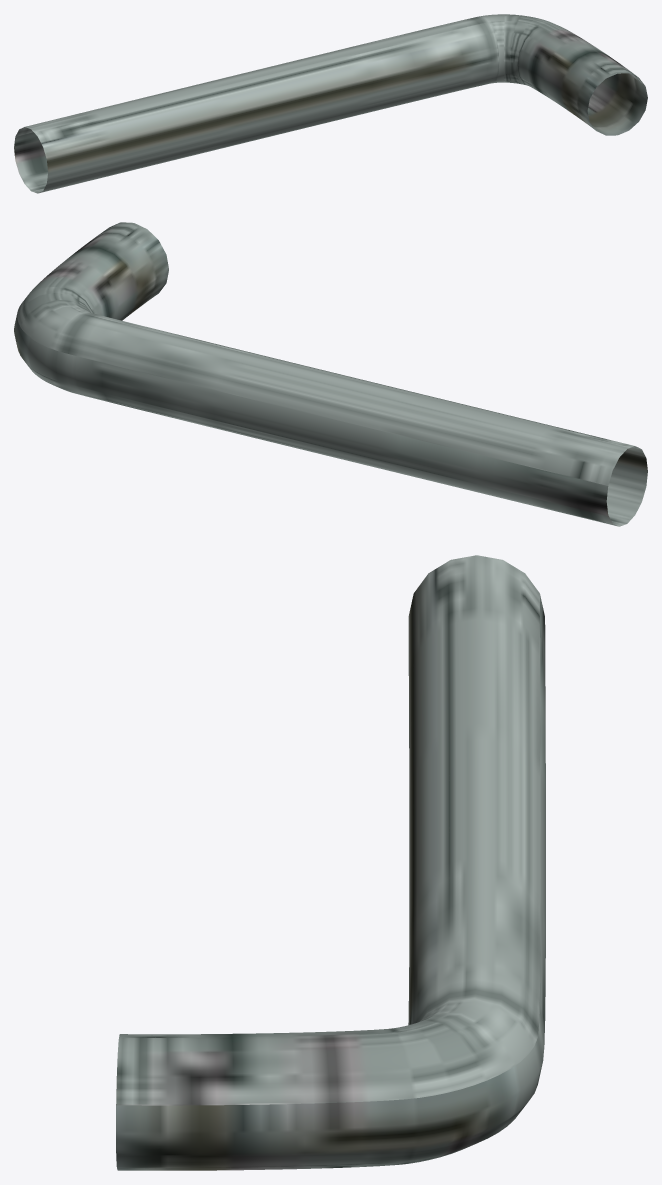
Rendered from mapa.fbx.
3 renders of one model, top to bottom at view 1: azimuth 30°, elevation 25°; view 2: azimuth 150°, elevation 25°; view 3: azimuth 270°, elevation 25°, orthographic. The views are drawn at different scales.
Visible parts, largest first — view 1: BezierCurve.002, BezierCurve; view 2: BezierCurve.002, BezierCurve; view 3: BezierCurve, BezierCurve.002.
Boxes of the visible parts, x1,y1,x2,y2 form: BezierCurve.002: (14,20,486,193); BezierCurve: (464,14,647,135); BezierCurve.002: (75,316,647,526); BezierCurve: (14,222,168,396); BezierCurve: (116,983,544,1170); BezierCurve.002: (408,555,545,1044).
Bounding box in the file's own units: 2013 × 226 × 712.
